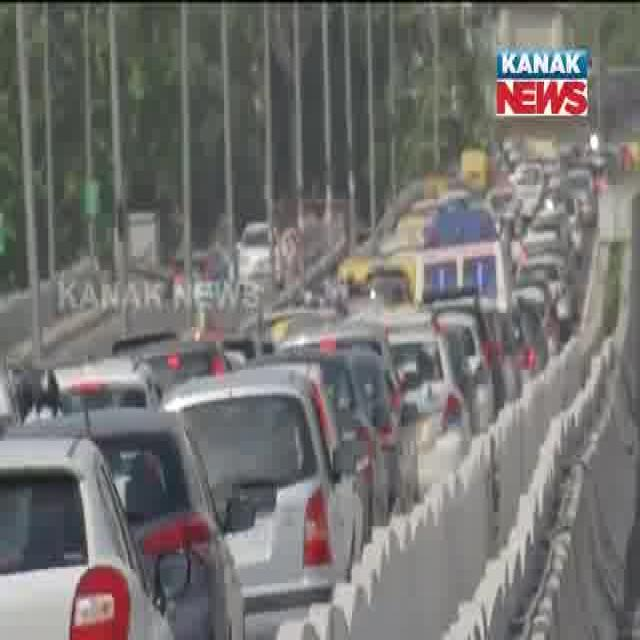ambulance: (414, 198, 510, 294)
